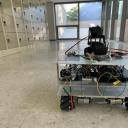cart: (54, 52, 128, 111)
